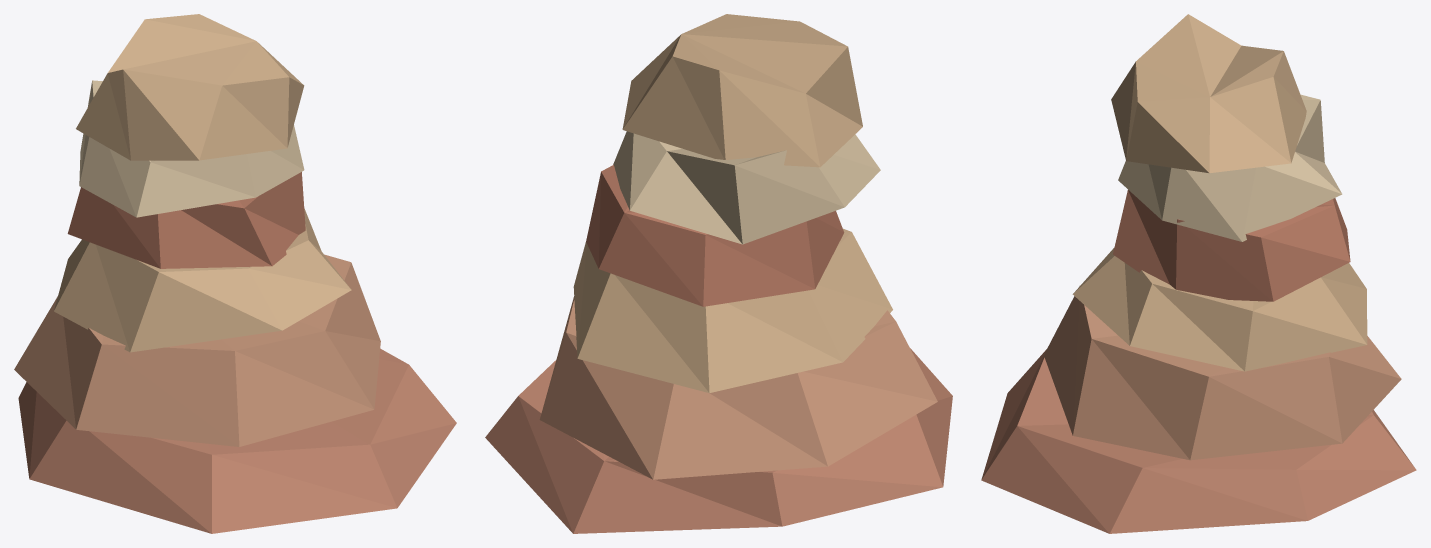
Rendered from tarhut_arenito_0.glb.
3 views of the same model, side by side, from view 1: azimuth 30°, elevation 25°; view 2: azimuth 150°, elevation 25°; view 3: azimuth 270°, elevation 25° (orthographic). The views are drawn at different scales.
Visible parts, largest first — view 1: arenito; view 2: arenito; view 3: arenito.
Boxes of the visible parts, left/top/right/bottom form: arenito: left=14, top=14, right=456, bottom=533; arenito: left=485, top=14, right=952, bottom=533; arenito: left=981, top=14, right=1416, bottom=533.
Bounding box in the file's own units: 1.98 × 1.99 × 2.01.
